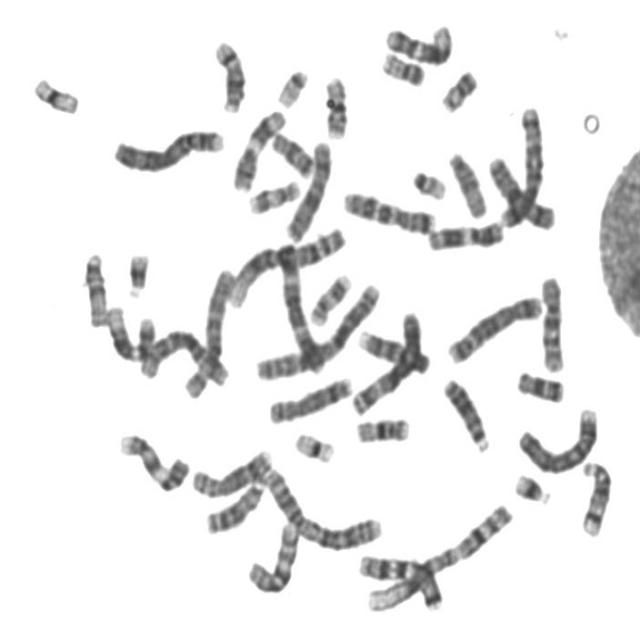A1: (359, 494, 516, 614), (224, 218, 349, 310)
A2: (251, 274, 384, 381), (259, 459, 386, 552)
A3: (348, 303, 426, 416), (273, 234, 330, 376)
B4: (512, 398, 602, 476), (108, 118, 227, 175)
B5: (443, 286, 546, 365), (496, 99, 548, 230)
C10: (242, 514, 303, 596), (536, 266, 569, 375)
C11: (228, 102, 289, 192), (423, 213, 508, 253)
C12: (101, 299, 160, 364), (381, 15, 456, 66)
C6: (179, 258, 238, 400), (134, 321, 232, 389)
C7: (353, 545, 446, 612), (338, 182, 440, 235)
C8: (186, 441, 276, 500), (264, 368, 356, 425)
C9: (114, 424, 192, 493), (354, 322, 434, 376)
D13: (201, 470, 270, 537), (439, 370, 494, 454)
D14: (576, 452, 616, 539), (209, 32, 250, 114)
D15: (444, 143, 491, 220), (79, 244, 111, 330)
E16: (319, 67, 353, 142), (351, 408, 414, 446)
E17: (304, 265, 354, 327), (244, 172, 304, 216)
E18: (268, 124, 318, 179), (512, 362, 568, 404)
F19: (27, 68, 83, 116), (290, 424, 338, 465)
F20: (436, 61, 482, 114), (377, 43, 429, 88)
G21: (509, 465, 556, 507), (122, 243, 154, 299)
G22: (273, 61, 312, 109), (407, 162, 450, 201)
X: (484, 149, 559, 231), (281, 133, 335, 242)
